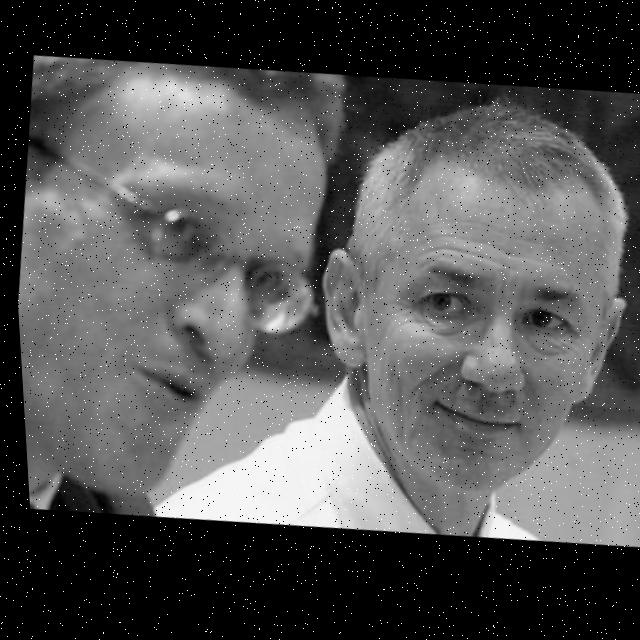face: (18, 104, 335, 508), (344, 166, 640, 498)
